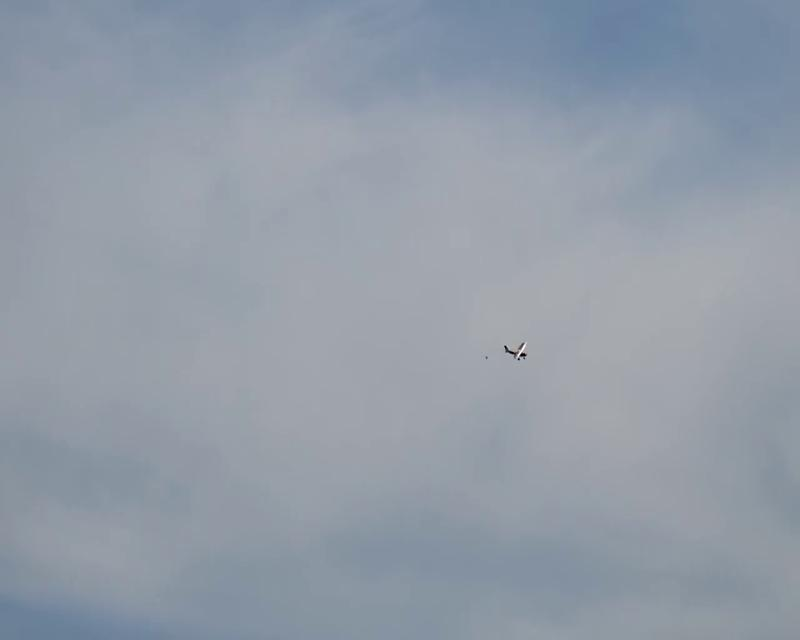UAV: (503, 341, 529, 363)
